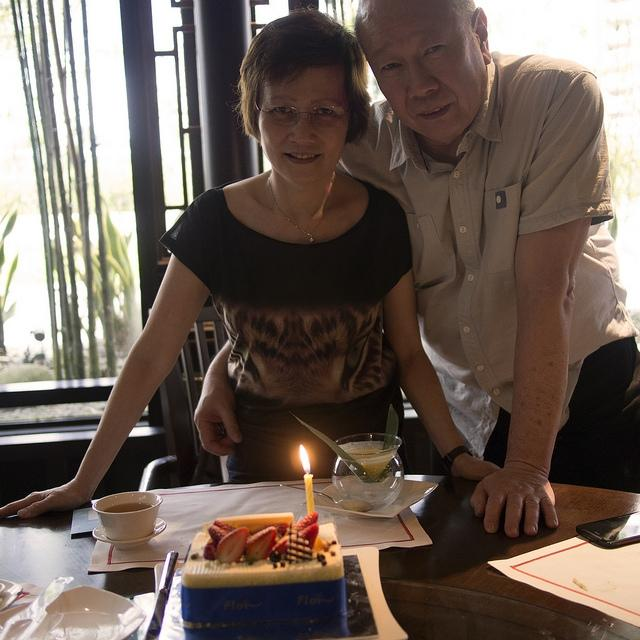strawberry: (272, 522, 318, 554), (244, 526, 278, 561), (216, 526, 248, 563), (292, 510, 318, 532), (253, 522, 289, 537), (208, 524, 228, 548), (214, 520, 238, 532), (204, 544, 216, 560)
